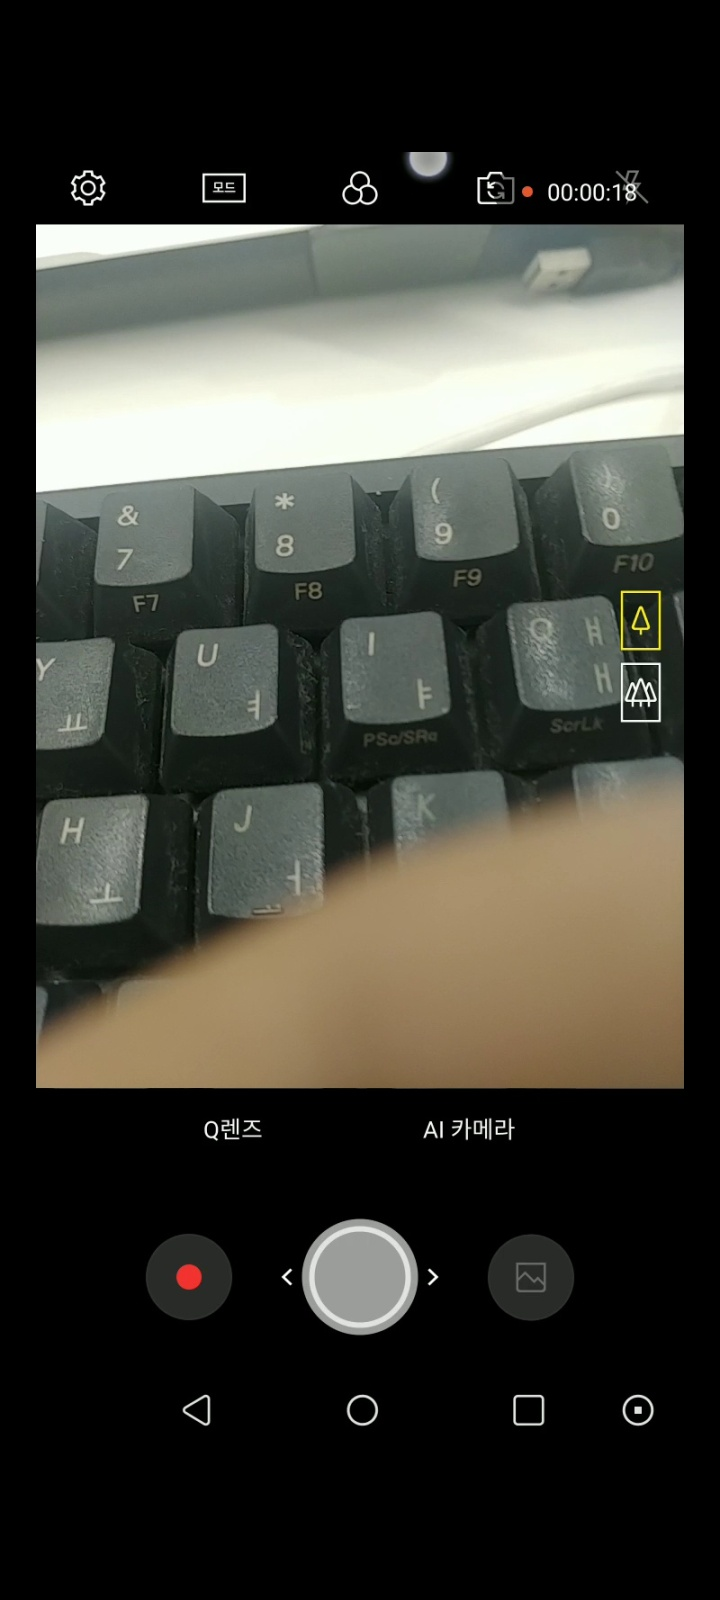Cursor: (407, 153, 450, 185)
